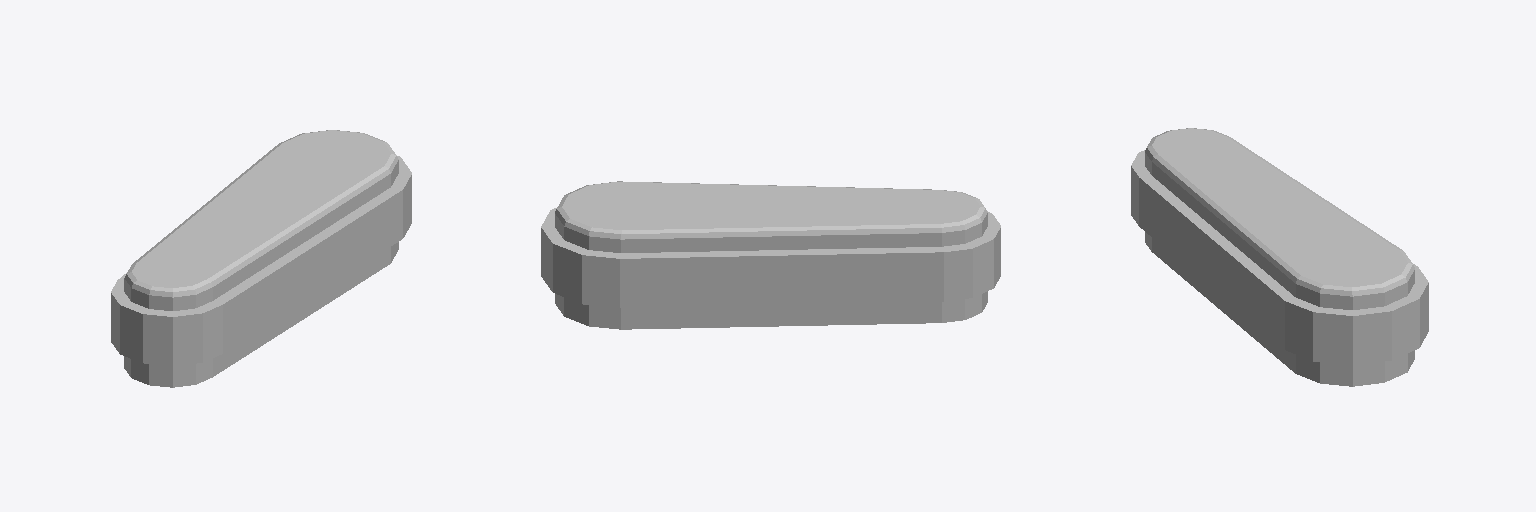
Rendered from RightFlipper.obj.
The picture shows the model from 3 angles: view 1: azimuth 30°, elevation 25°; view 2: azimuth 150°, elevation 25°; view 3: azimuth 270°, elevation 25°; orthographic projection.
Parts seen in each view (by area): view 1: Flipper.002_Untitled.000; view 2: Flipper.002_Untitled.000; view 3: Flipper.002_Untitled.000.
Boxes of the visible parts, <box> form: Flipper.002_Untitled.000: <box>111,130,411,387</box>; Flipper.002_Untitled.000: <box>541,181,1000,329</box>; Flipper.002_Untitled.000: <box>1131,128,1428,386</box>.
Size of the model in its own units: 0.1205 by 0.0306 by 0.0858.